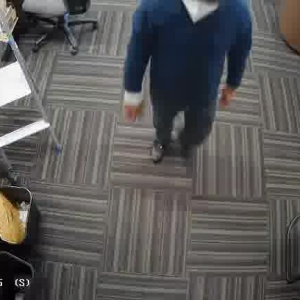person: (134, 2, 245, 152)
